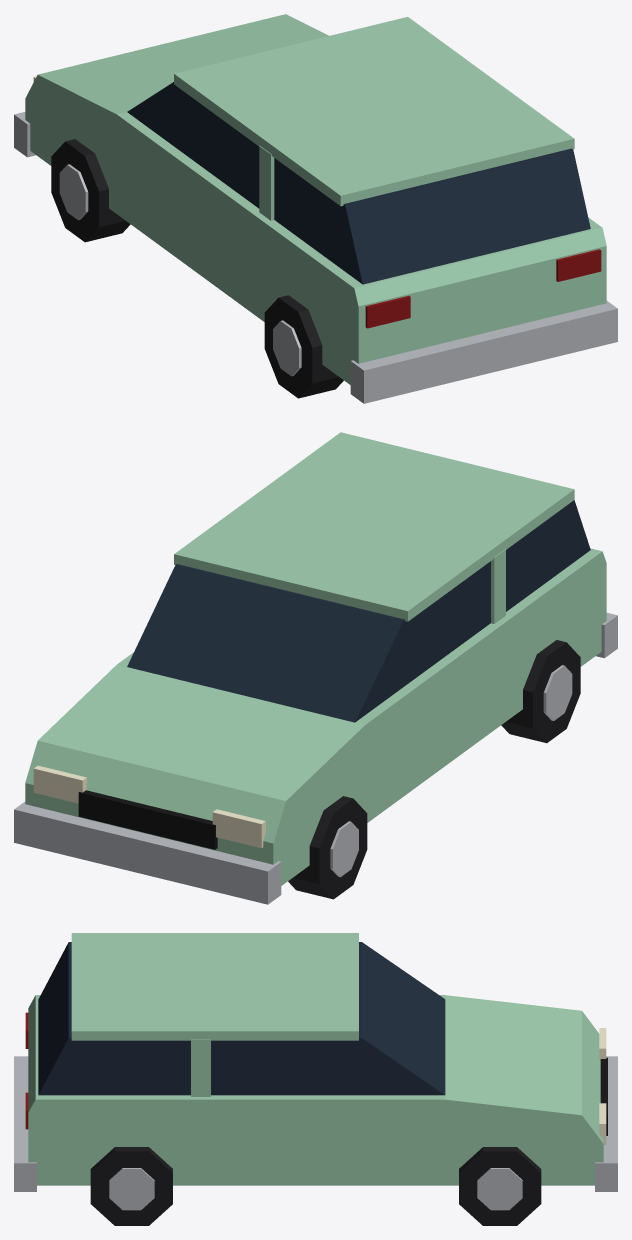
The model's file is CarHatchMint.obj.
3 renders of one model, top to bottom at view 1: azimuth 30°, elevation 25°; view 2: azimuth 150°, elevation 25°; view 3: azimuth 270°, elevation 25°, orthographic. The views are drawn at different scales.
Parts seen in each view (by area): view 1: CarHatchMint; view 2: CarHatchMint; view 3: CarHatchMint.
Boxes of the visible parts, x1,y1,x2,y2 form: CarHatchMint: (14,14,617,403); CarHatchMint: (14,432,617,904); CarHatchMint: (14,933,617,1225).
Bounding box in the file's own units: 1.89 × 1.44 × 4.2.
Materials: 1 (1 with a texture image).
